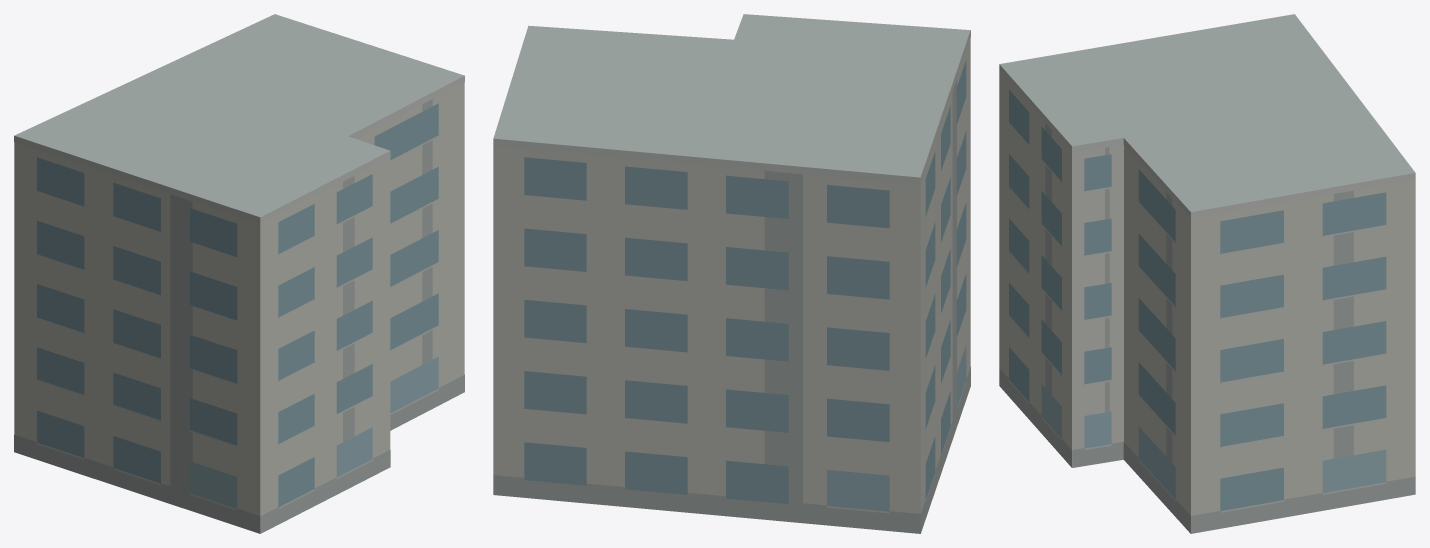
File: survey-upis-32966831.glb
3 renders of one model, left to right at view 1: azimuth 30°, elevation 25°; view 2: azimuth 150°, elevation 25°; view 3: azimuth 270°, elevation 25°, orthographic. The views are drawn at different scales.
Parts seen in each view (by area): view 1: survey-upis-32966831.tmp; view 2: survey-upis-32966831.tmp; view 3: survey-upis-32966831.tmp.
Part boxes in pixels (<box>): survey-upis-32966831.tmp: <box>14,14,464,533</box>; survey-upis-32966831.tmp: <box>493,14,970,533</box>; survey-upis-32966831.tmp: <box>999,14,1415,533</box>.
Bounding box in the file's own units: 15.2 × 11.5 × 13.5.
